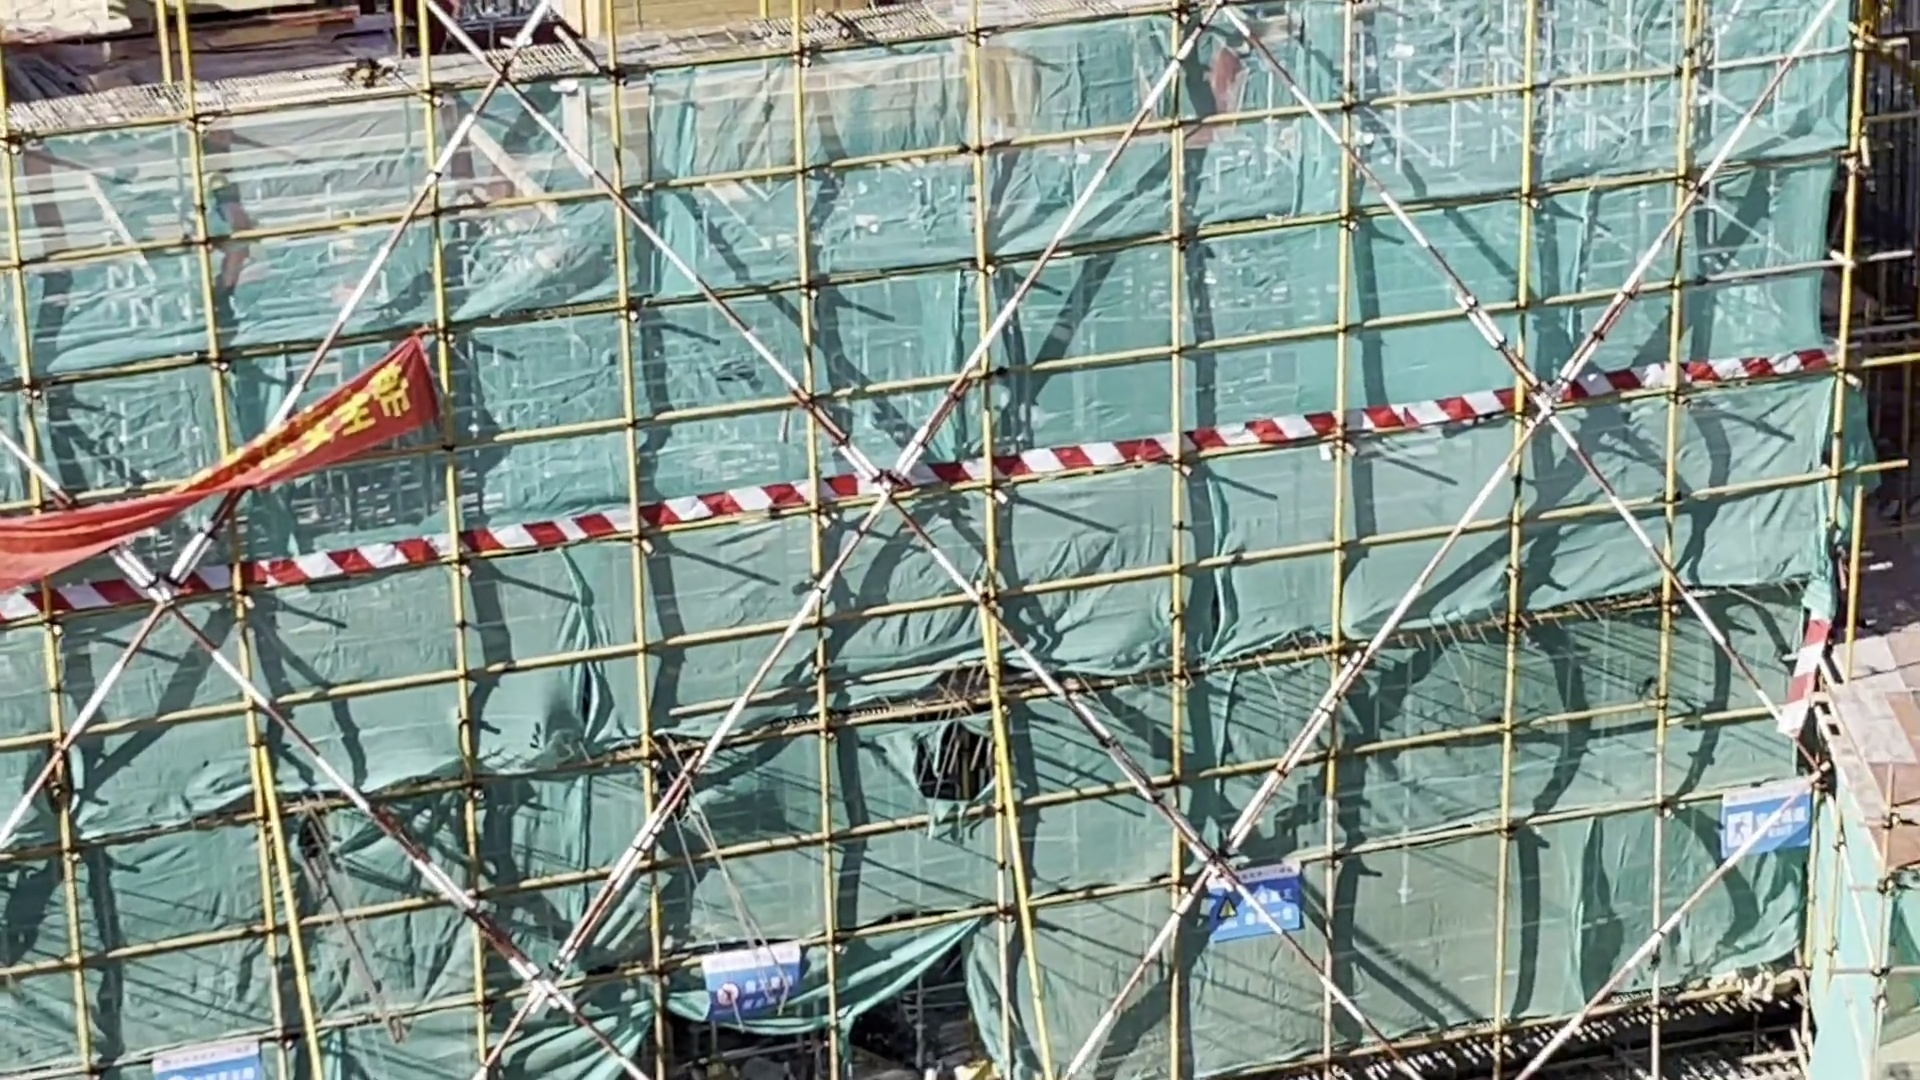slogan: (7, 349, 417, 620), (695, 928, 814, 1033), (1197, 845, 1305, 949), (1721, 773, 1824, 856)
